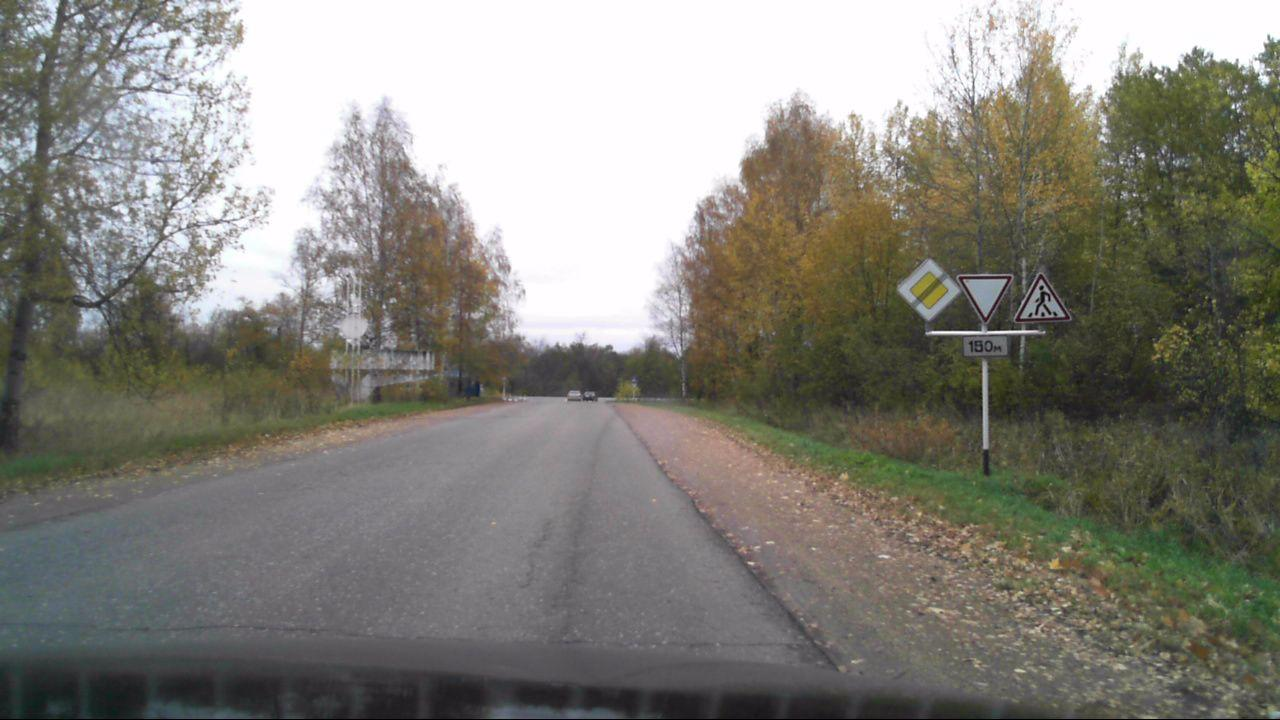1_22: (1013, 270, 1073, 323)
2_2: (897, 257, 961, 319)
2_4: (958, 273, 1013, 325)
8_1_1: (961, 334, 1011, 357)
